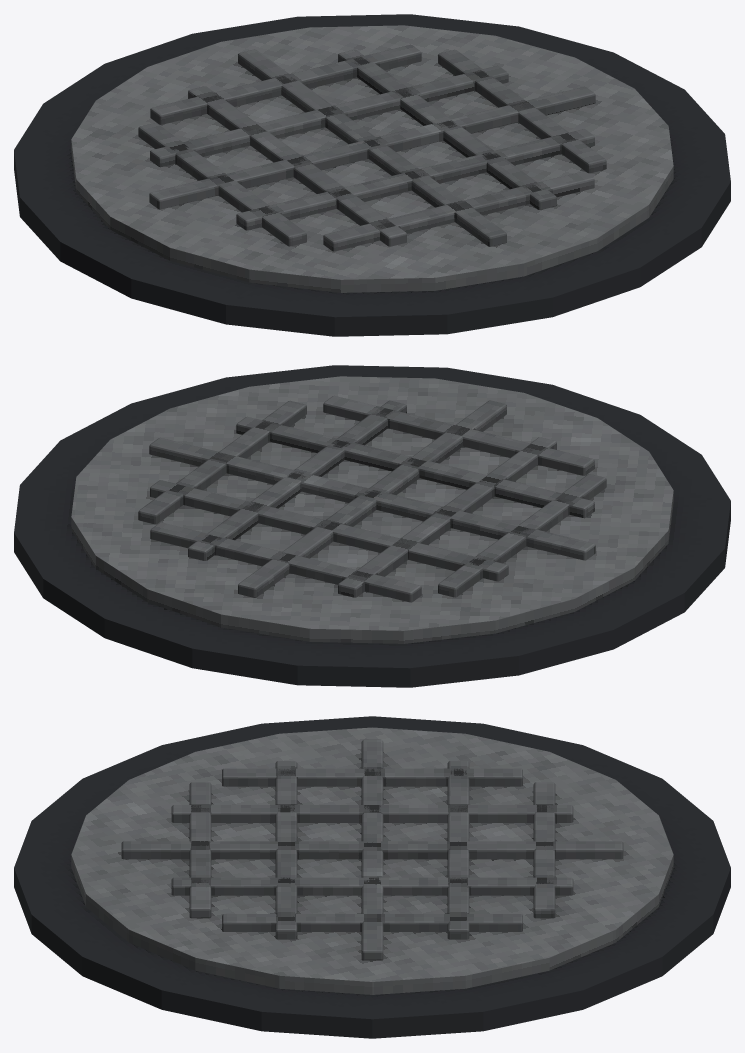
Rendered from arena_city_manhole.glb.
The picture shows the model from 3 angles, top to bottom: view 1: azimuth 30°, elevation 25°; view 2: azimuth 150°, elevation 25°; view 3: azimuth 270°, elevation 25°; orthographic projection.
Visible parts, largest first — view 1: arena_city_manhole; view 2: arena_city_manhole; view 3: arena_city_manhole.
Part boxes in pixels (x1,y1,x2,y2): arena_city_manhole: [14, 14, 730, 336]; arena_city_manhole: [14, 365, 730, 687]; arena_city_manhole: [14, 716, 730, 1038].
Bounding box in the file's own units: 1 × 0.065 × 1.
2 materials, 2 textured.
